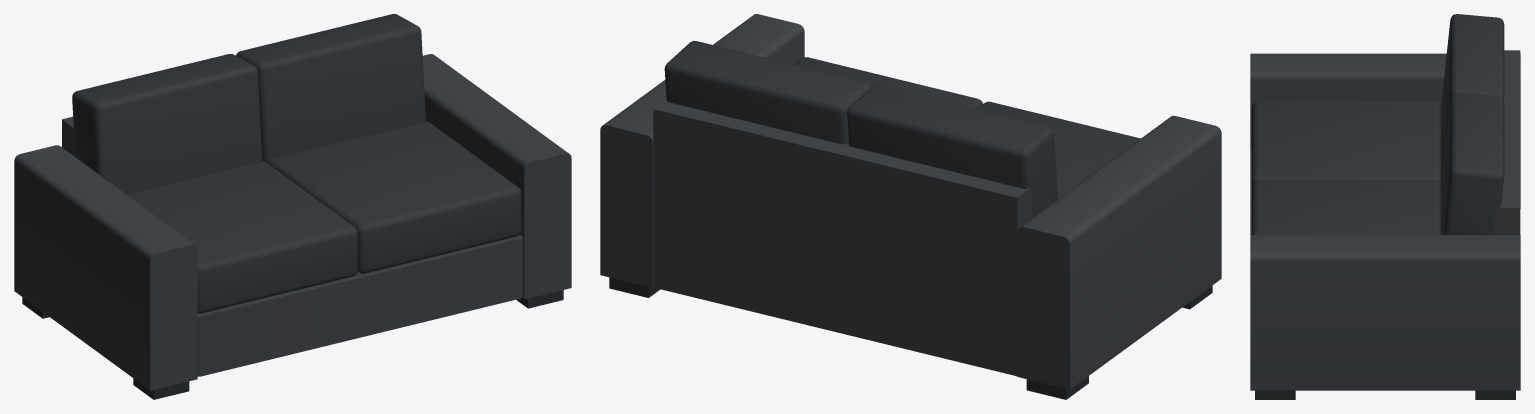
Rendered from Sofa1_C1.fbx.
3 renders of one model, left to right at view 1: azimuth 30°, elevation 25°; view 2: azimuth 150°, elevation 25°; view 3: azimuth 270°, elevation 25°, orthographic. The views are drawn at different scales.
Parts seen in each view (by area): view 1: Sofa1_C1; view 2: Sofa1_C1; view 3: Sofa1_C1.
Boxes of the visible parts, <box> form: Sofa1_C1: <box>14,14,571,399</box>; Sofa1_C1: <box>600,14,1221,399</box>; Sofa1_C1: <box>1250,14,1520,399</box>.
Bounding box in the file's own units: 179 × 85.61 × 100.
